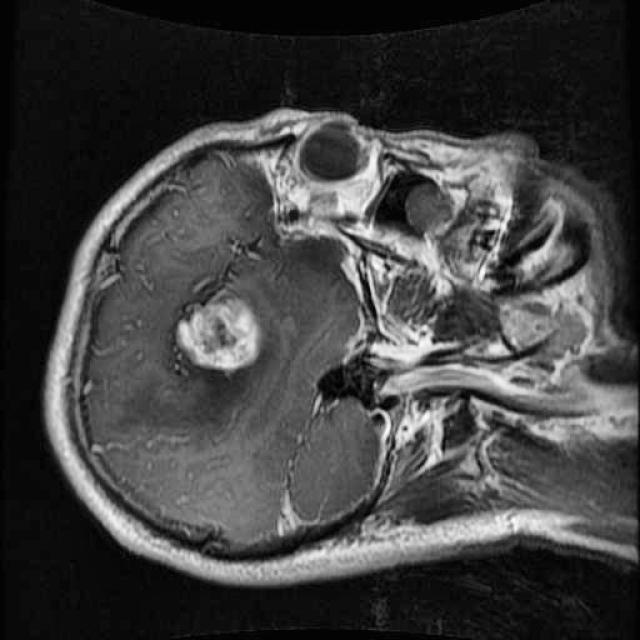Non-Tumor: (158, 275, 276, 388)
